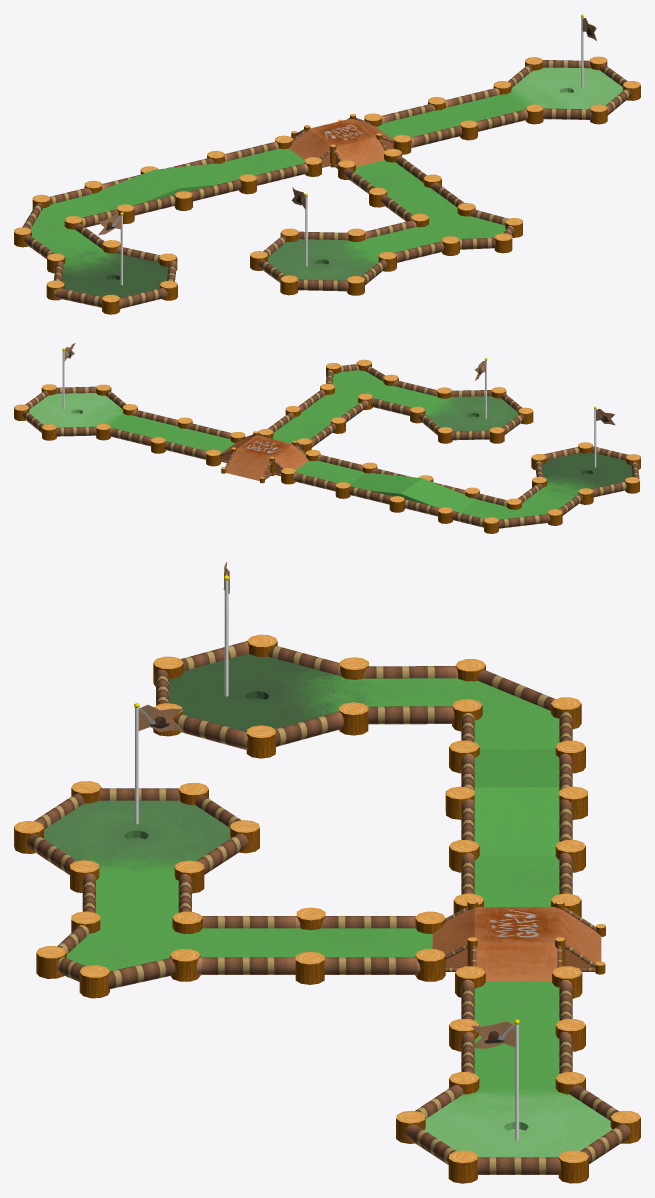
File: minigolf_v2.fbx
3 renders of one model, top to bottom at view 1: azimuth 30°, elevation 25°; view 2: azimuth 150°, elevation 25°; view 3: azimuth 270°, elevation 25°, orthographic. The views are drawn at different scales.
Parts seen in each view (by area): view 1: minigolf_ex; view 2: minigolf_ex; view 3: minigolf_ex.
Part boxes in pixels (x1=…): minigolf_ex: x1=14, y1=14, x2=640, y2=314; minigolf_ex: x1=14, y1=343, x2=640, y2=533; minigolf_ex: x1=14, y1=562, x2=640, y2=1183.
Bounding box in the file's own units: 2963 × 343 × 1485.
